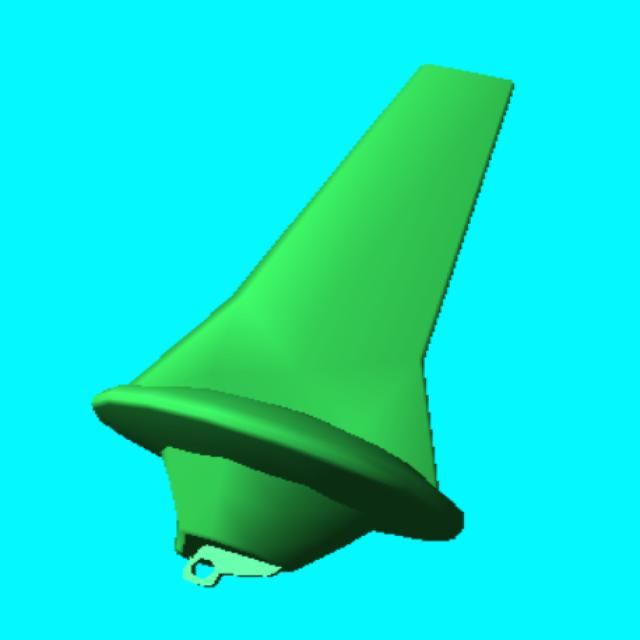GreenBuoy: (95, 59, 515, 588)
